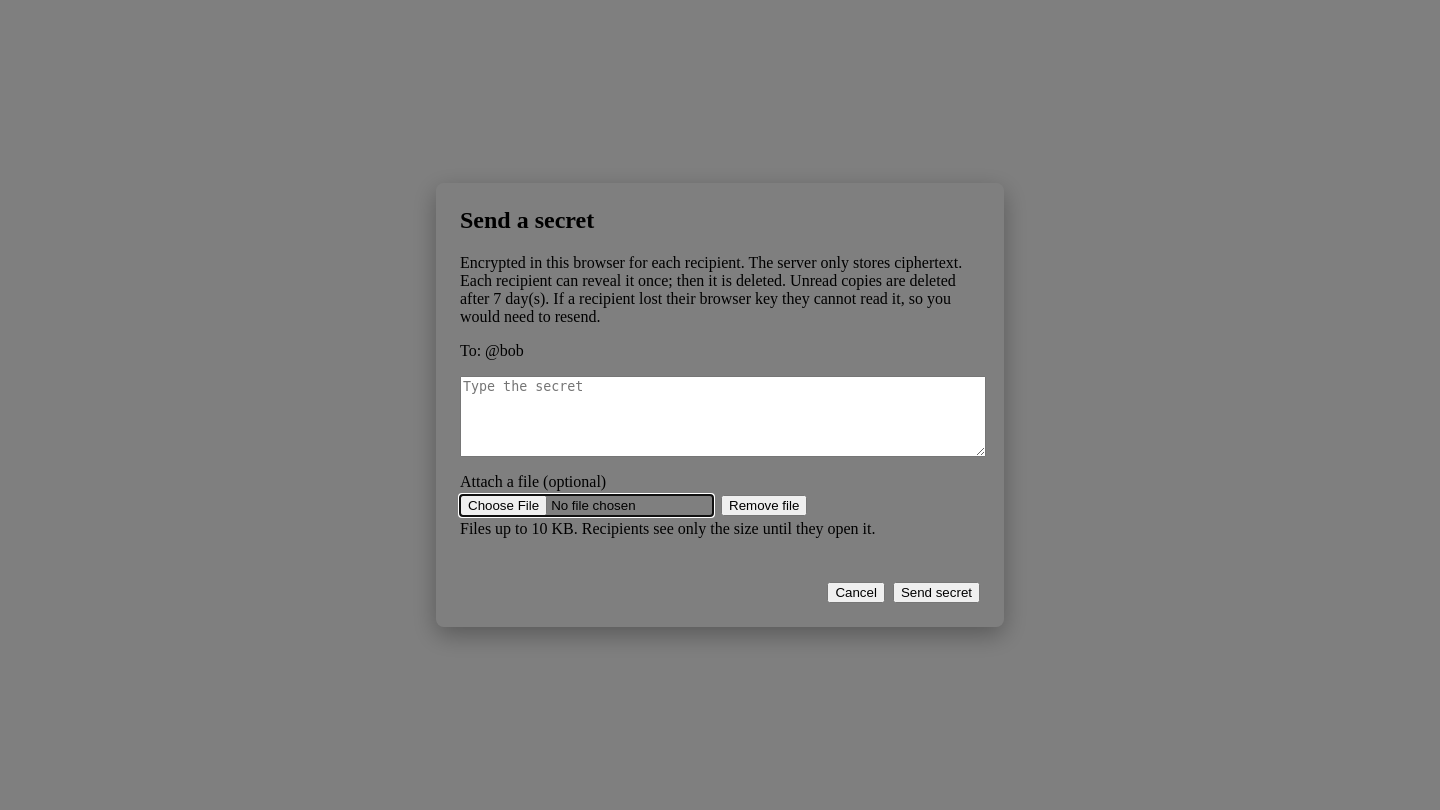
it: SecretModal › a failed chunk upload cancels the upload and sends nothing
The width and height of the screenshot is (1440, 810).
Earlier steps of the test are not shown.
Expected: the text "To: @bob" is shown, [460,342,524,359]
What coordinates should you click on to do the following:
click the button "Send secret"
I would click on:
 (936, 592)
Its box is [893,582,980,603].
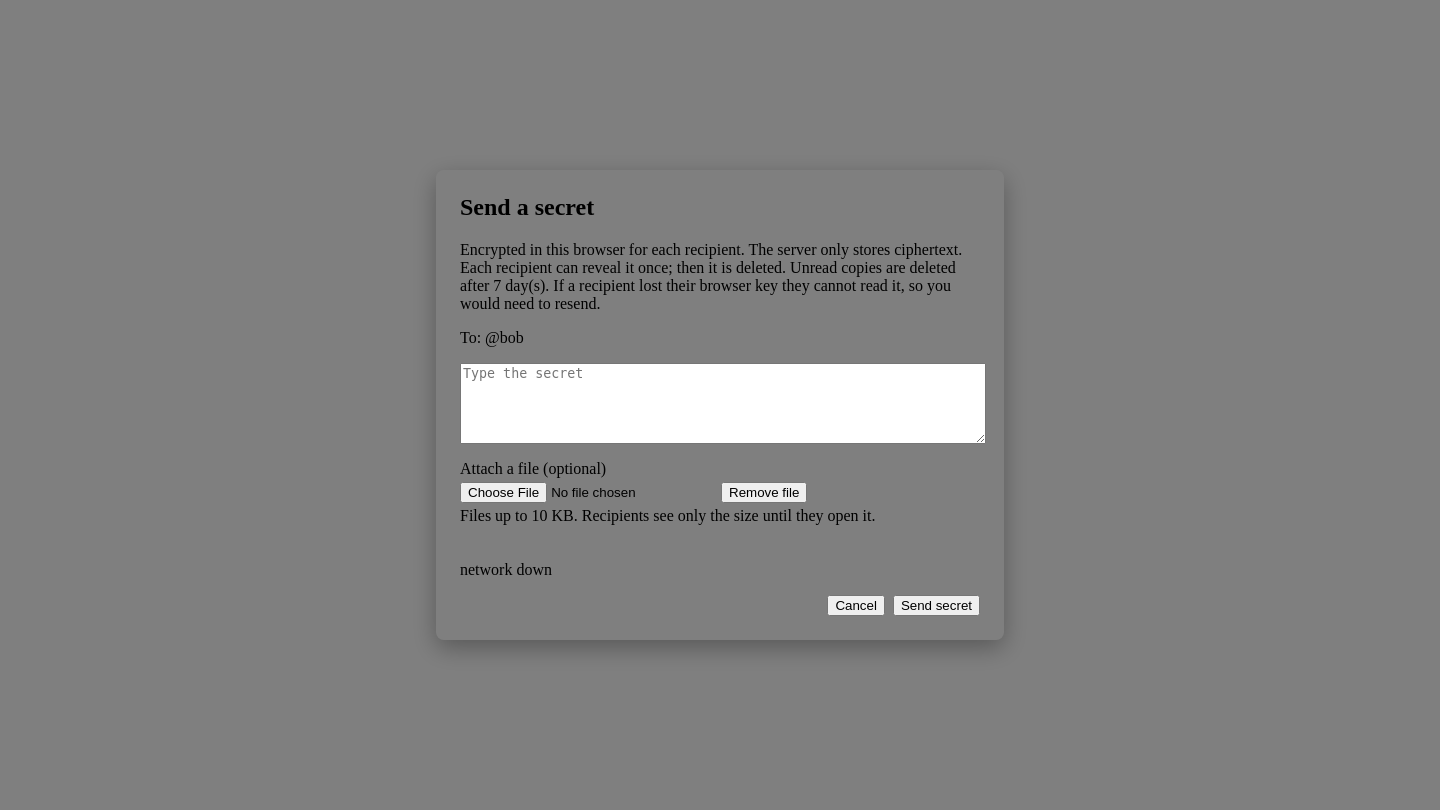
Now the message "network down" is shown, box [460,561,552,578]
